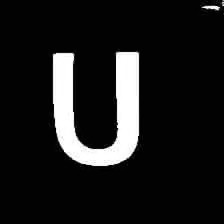LTR_U: (46, 39, 145, 173)
